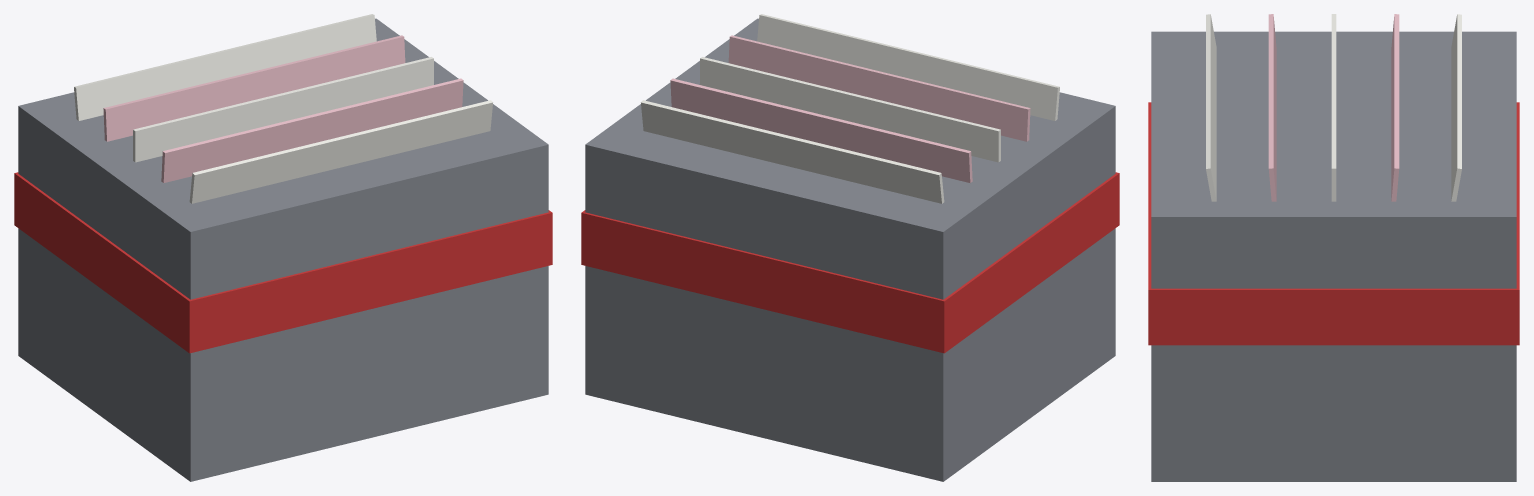
File: claims_box.glb
3 renders of one model, left to right at view 1: azimuth 30°, elevation 25°; view 2: azimuth 150°, elevation 25°; view 3: azimuth 270°, elevation 25°, orthographic. The views are drawn at different scales.
Parts seen in each view (by area): view 1: box_archive_grey, forms_form_pink (×5), band_script_red; view 2: box_archive_grey, forms_form_pink (×5), band_script_red; view 3: box_archive_grey, band_script_red, forms_form_pink (×5).
Boxes of the visible parts, box(x1,y1,x2,y2) form: box_archive_grey: box(18, 18, 548, 481); forms_form_pink (×5): box(74, 14, 492, 203); band_script_red: box(14, 172, 552, 353); box_archive_grey: box(585, 18, 1115, 481); forms_form_pink (×5): box(641, 14, 1059, 203); band_script_red: box(581, 172, 1119, 353); box_archive_grey: box(1151, 31, 1516, 481); band_script_red: box(1148, 102, 1519, 345); forms_form_pink (×5): box(1206, 14, 1461, 201).
Bounding box in the file's own units: 0.365 × 0.2701 × 0.305.
